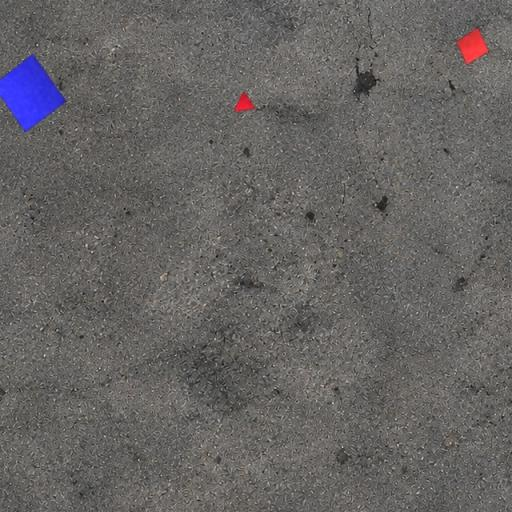BLUE_SQUARE: (0, 53, 67, 133)
RED_SQUARE: (456, 26, 490, 65)
